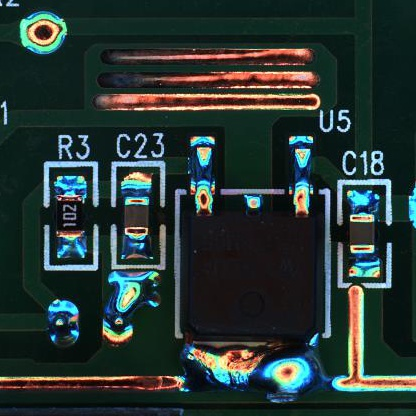spot: (17, 11, 70, 54), (45, 299, 82, 349)
